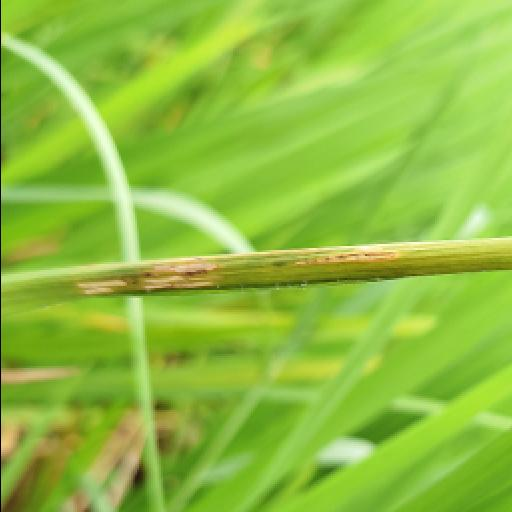Bacterial Leaf Blight: (68, 246, 230, 304), (284, 238, 416, 274)
